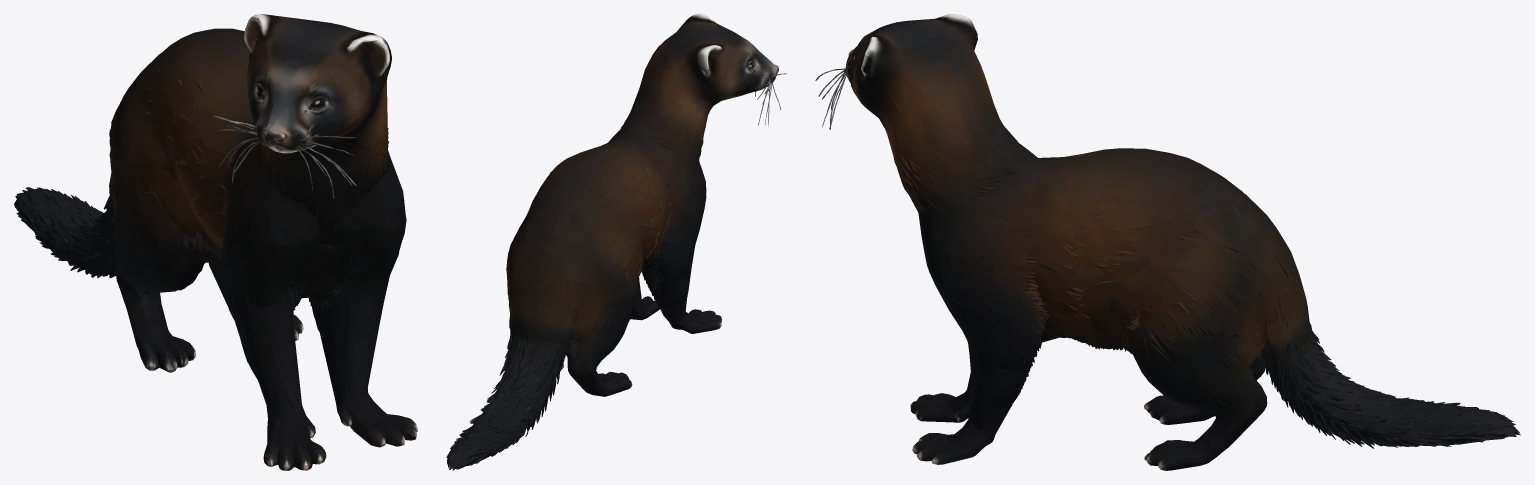
File: american-mink.glb
The picture shows the model from 3 angles, left to right: view 1: azimuth 30°, elevation 25°; view 2: azimuth 150°, elevation 25°; view 3: azimuth 270°, elevation 25°; orthographic projection. The views are drawn at different scales.
Bounding box in the file's own units: 0.6648 × 1.16 × 1.91.
Materials: 1 (1 with a texture image).
